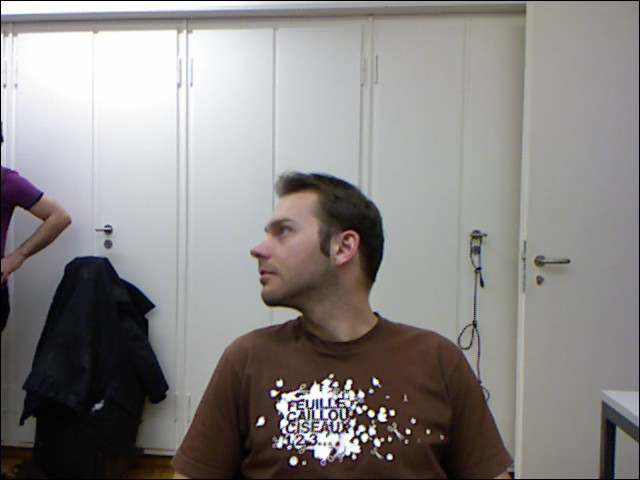deflection: (206, 178, 480, 480)
